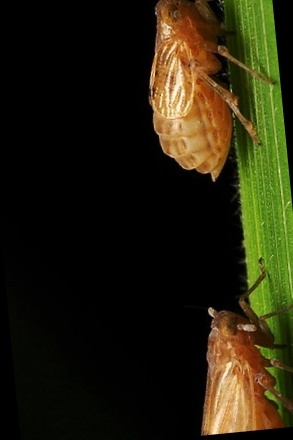Brown_hopper: (173, 253, 293, 436)
